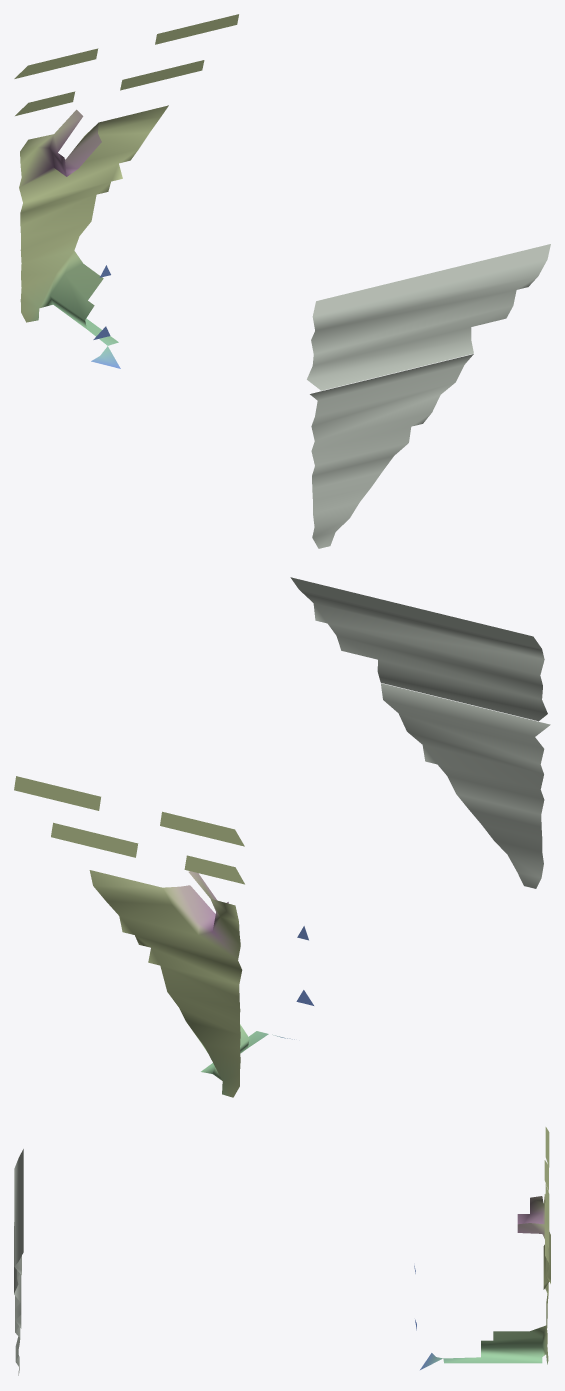
File: tile_7e4ccbd5fe0e_0_1_0_0_lod2.glb
The picture shows the model from 3 angles, top to bottom: view 1: azimuth 30°, elevation 25°; view 2: azimuth 150°, elevation 25°; view 3: azimuth 270°, elevation 25°; orthographic projection. The views are drawn at different scales.
Size of the model in its own units: 1.68 by 1.76 by 3.5.
